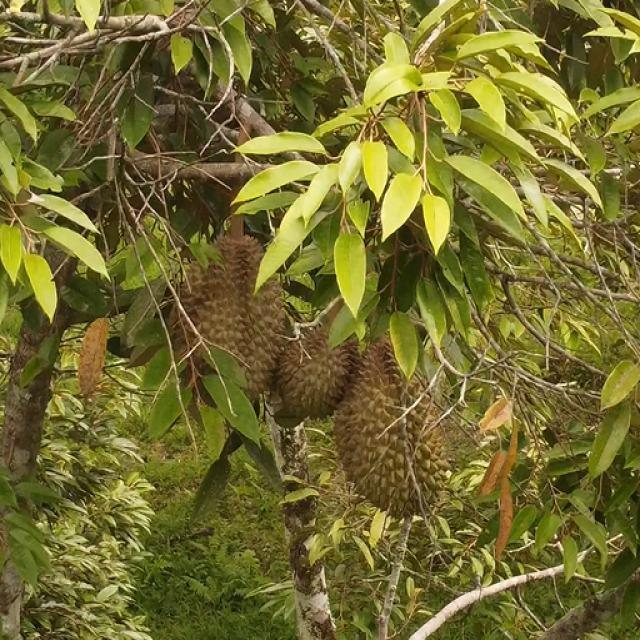mature: (181, 236, 284, 396)
